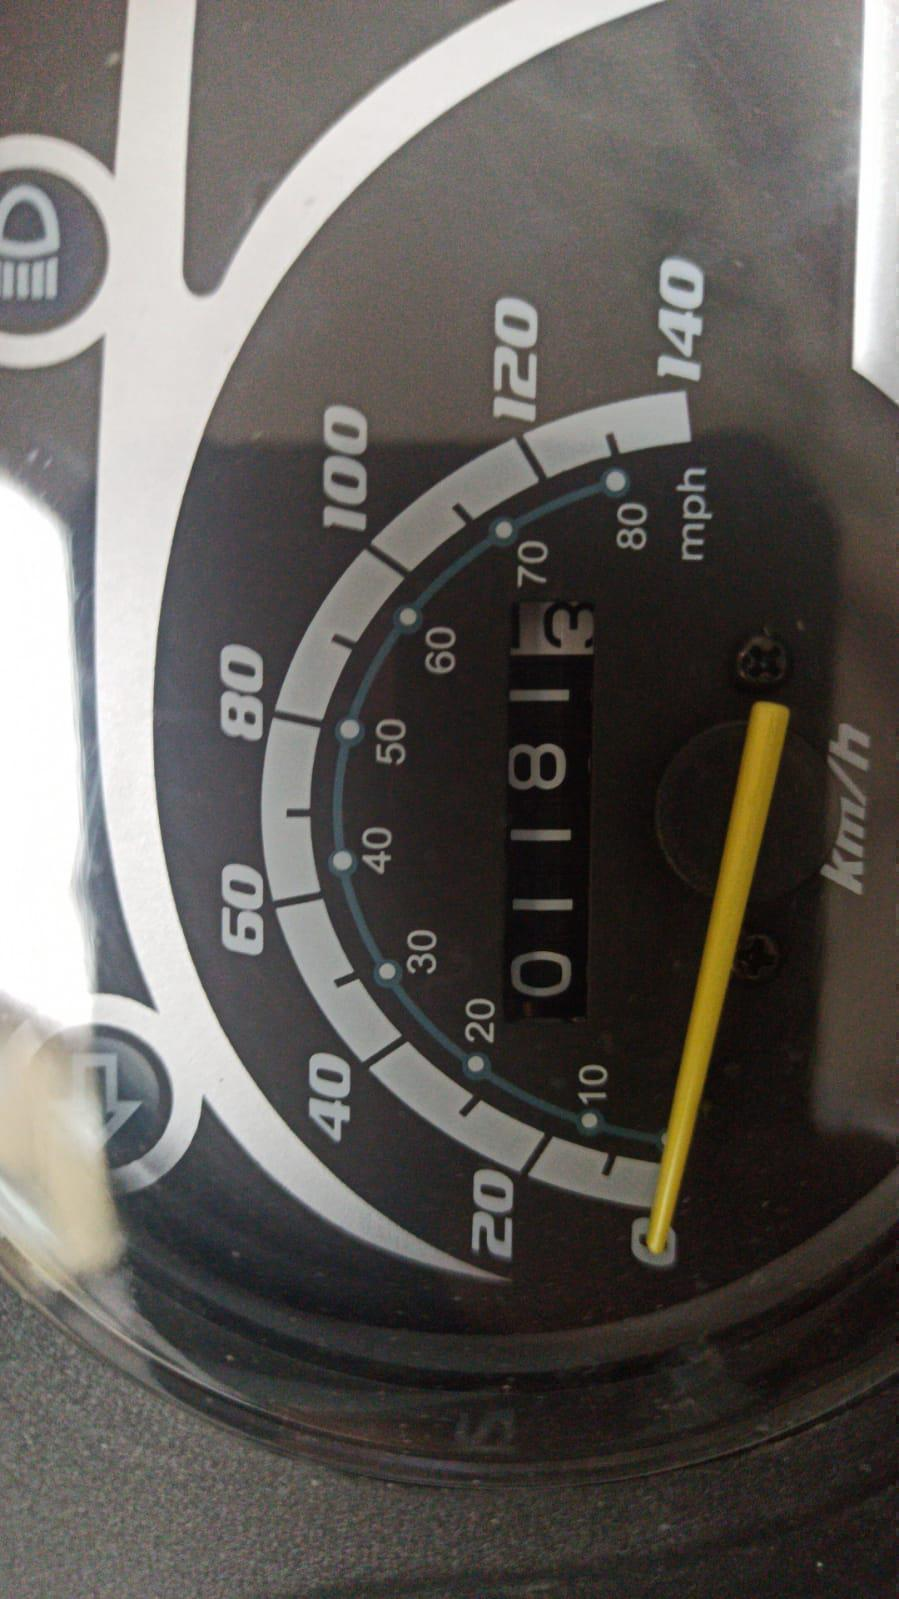0: (503, 940, 586, 1003)
1: (498, 675, 597, 714), (505, 883, 598, 918), (497, 820, 595, 847)
3: (535, 599, 609, 652)
8: (498, 735, 581, 792)
odometer: (491, 596, 620, 1029)
